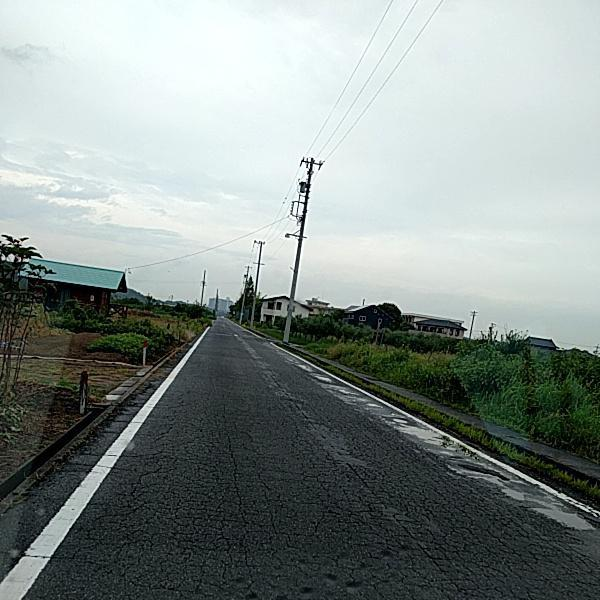D20: (57, 350, 598, 599)
